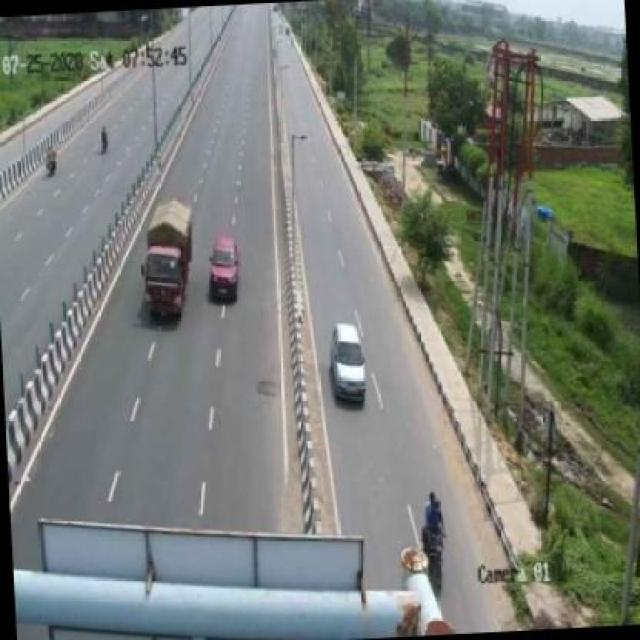car: (322, 316, 380, 412), (198, 228, 251, 309)
